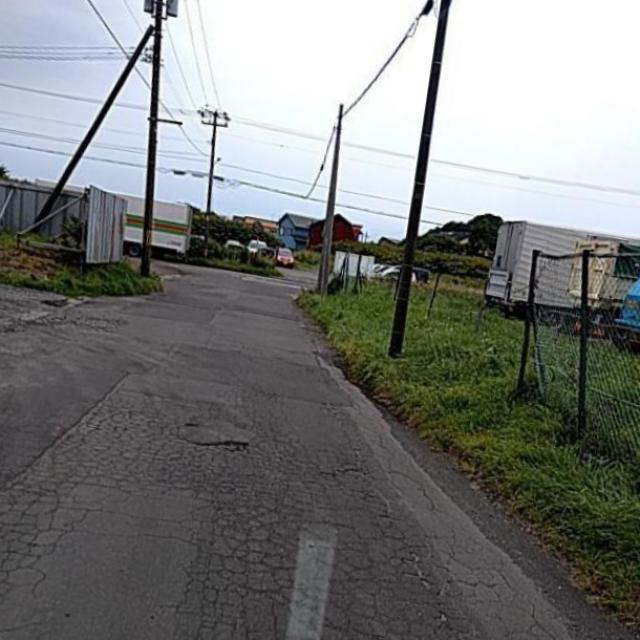Retak Buaya: (0, 391, 460, 640)
